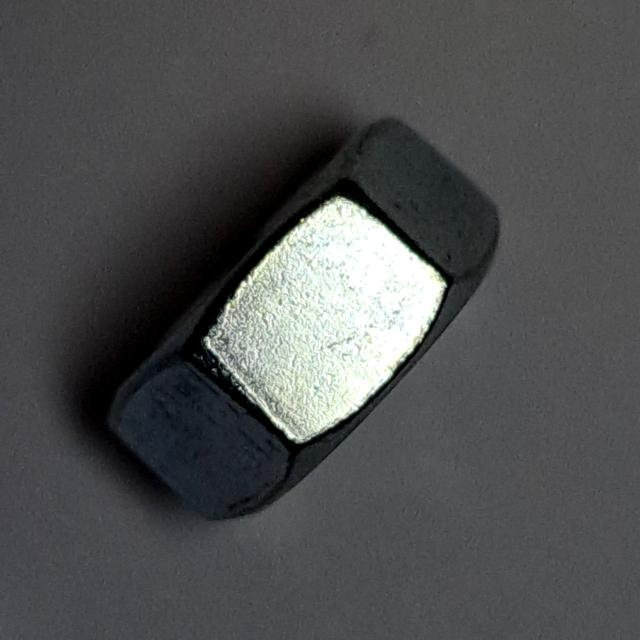Side_Excellent: (94, 108, 513, 539)
